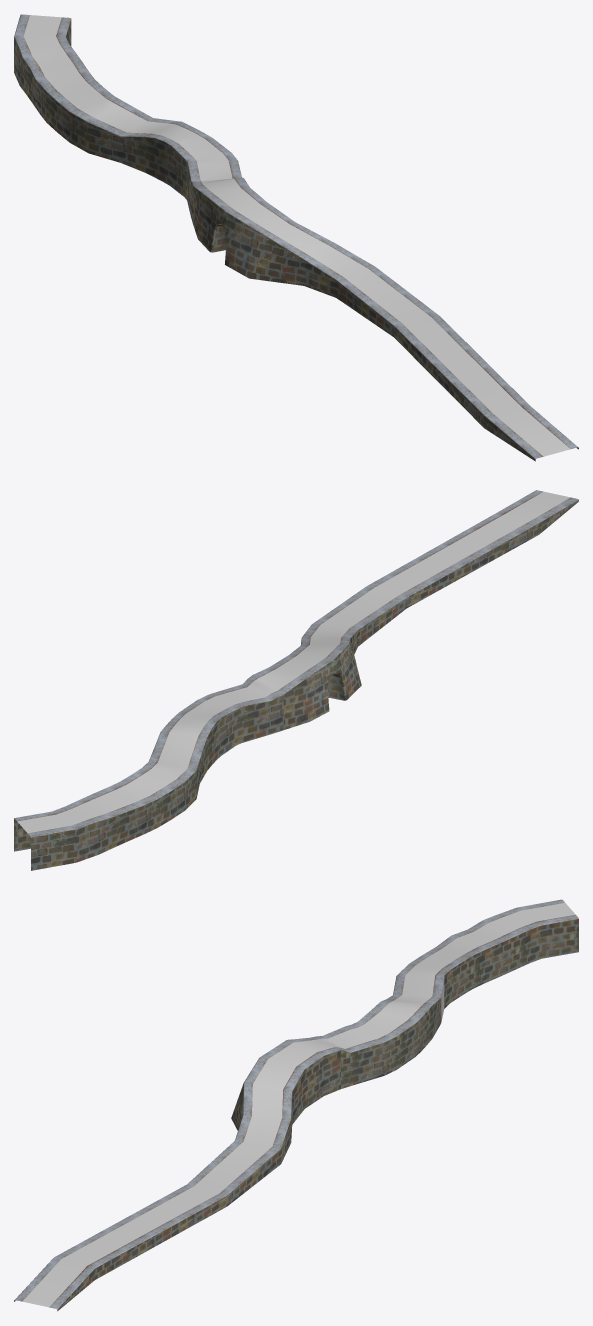
Rendered from Bridge.fbx.
3 views of the same model, one above another, from view 1: azimuth 30°, elevation 25°; view 2: azimuth 150°, elevation 25°; view 3: azimuth 330°, elevation 25° (orthographic). The views are drawn at different scales.
Visible parts, largest first — view 1: Line002; view 2: Line002; view 3: Line002.
Boxes of the visible parts, left/top/right/bottom form: Line002: left=14, top=14, right=578, bottom=461; Line002: left=14, top=490, right=578, bottom=870; Line002: left=14, top=899, right=578, bottom=1311.
Size of the model in its own units: 3506 by 1580 by 33105.
